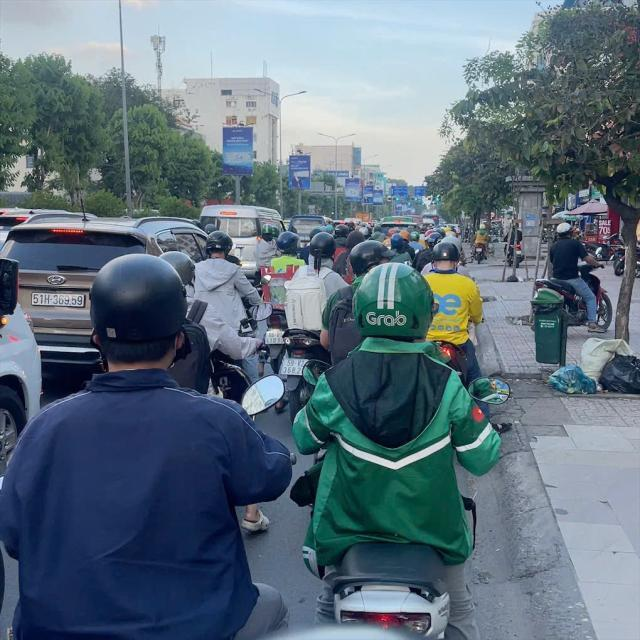car: (2, 211, 236, 371)
motorcycle: (305, 553, 488, 640)
plate: (24, 285, 95, 315), (276, 351, 315, 379)
